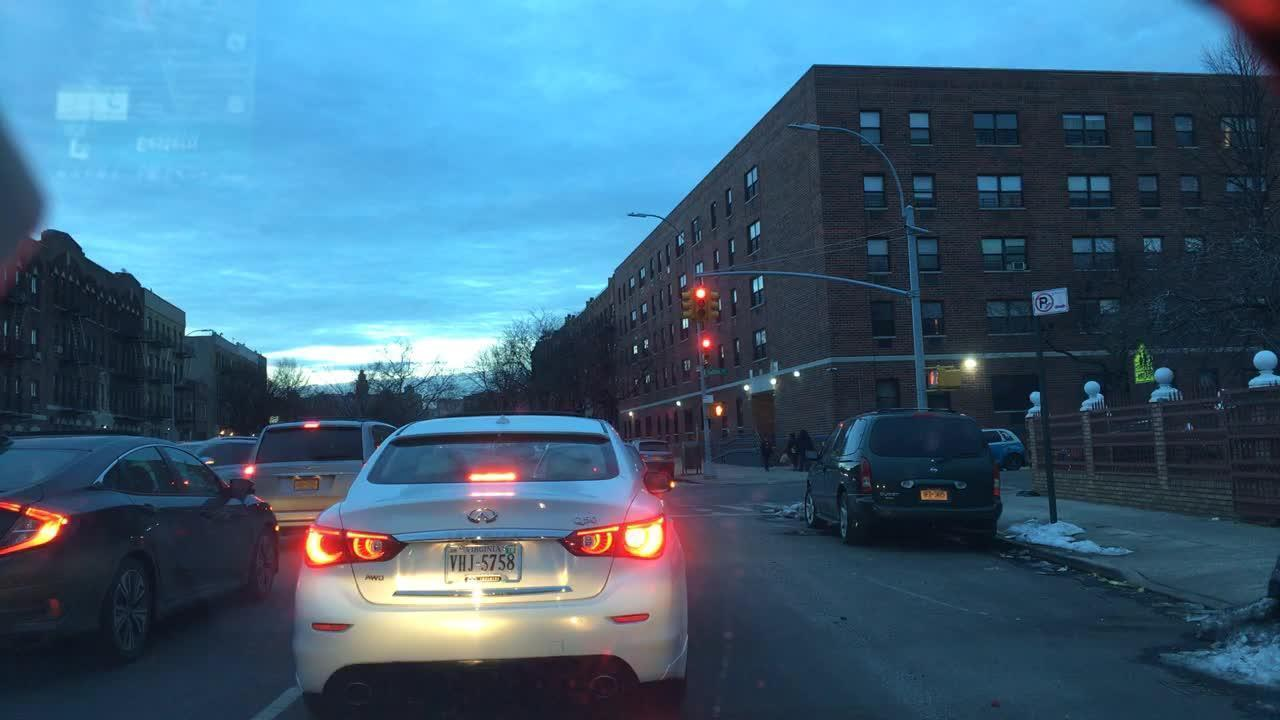Infiniti: (461, 504, 500, 530)
